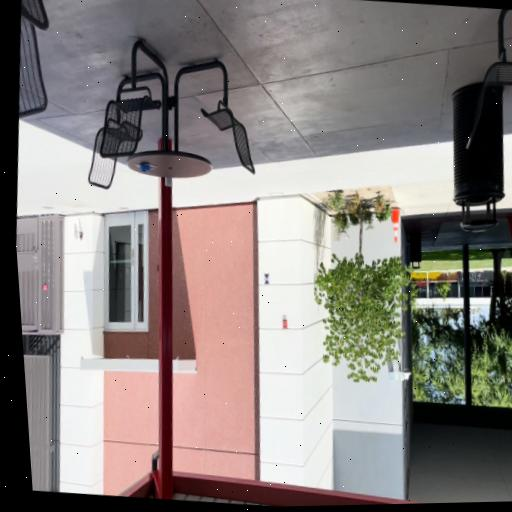target9: (263, 273, 271, 286)
